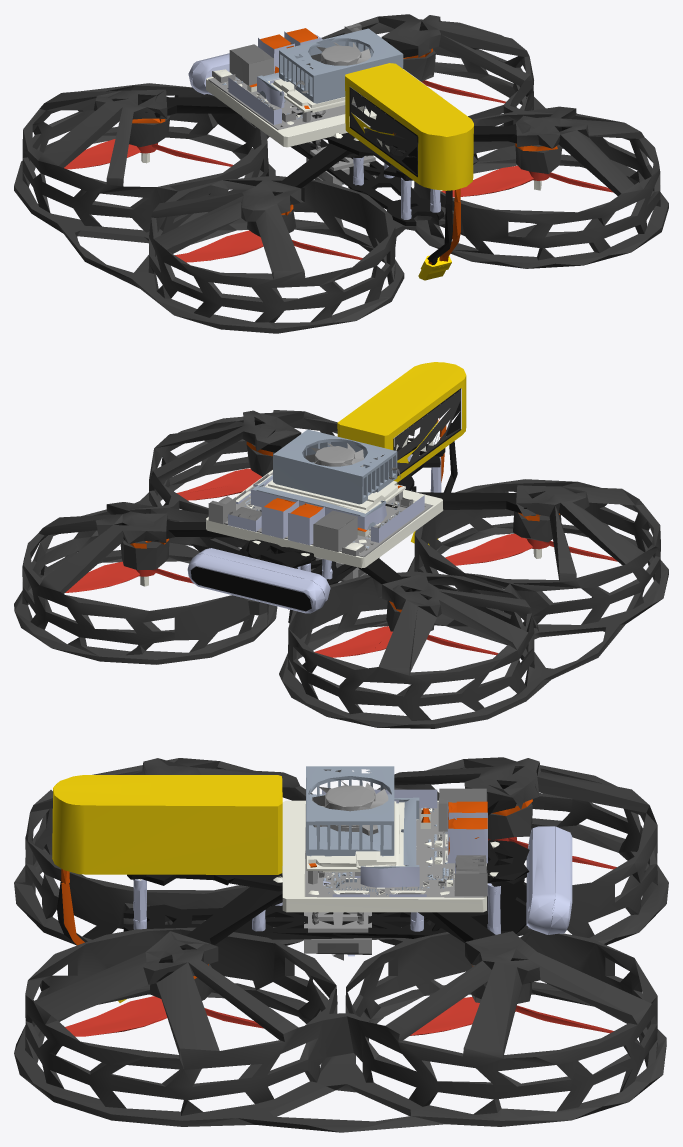
Rendered from fyp-drone.glb.
3 renders of one model, top to bottom at view 1: azimuth 30°, elevation 25°; view 2: azimuth 150°, elevation 25°; view 3: azimuth 270°, elevation 25°, orthographic. The views are drawn at different scales.
Parts seen in each view (by area): view 1: object 6, object 1, rotor-3, rotor-1, rotor-2; view 2: object 6, object 1, rotor-1, rotor-2, rotor-4, rotor-3; view 3: object 6, object 1, rotor-3, rotor-4.
Part boxes in pixels (bbox=[...]): object 6: bbox=[14, 14, 668, 333]; object 1: bbox=[112, 23, 571, 280]; rotor-3: bbox=[441, 165, 613, 197]; rotor-1: bbox=[175, 230, 362, 262]; rotor-2: bbox=[64, 139, 232, 169]; object 6: bbox=[14, 390, 668, 728]; object 1: bbox=[114, 362, 559, 613]; rotor-1: bbox=[445, 533, 617, 565]; rotor-2: bbox=[314, 626, 498, 657]; rotor-4: bbox=[65, 561, 193, 592]; rotor-3: bbox=[176, 468, 261, 500]; object 6: bbox=[14, 757, 668, 1132]; object 1: bbox=[52, 766, 572, 1002]; rotor-3: bbox=[65, 996, 263, 1036]; rotor-4: bbox=[410, 997, 613, 1035].
Size of the model in its own units: 0.3314 by 0.101 by 0.2893.
